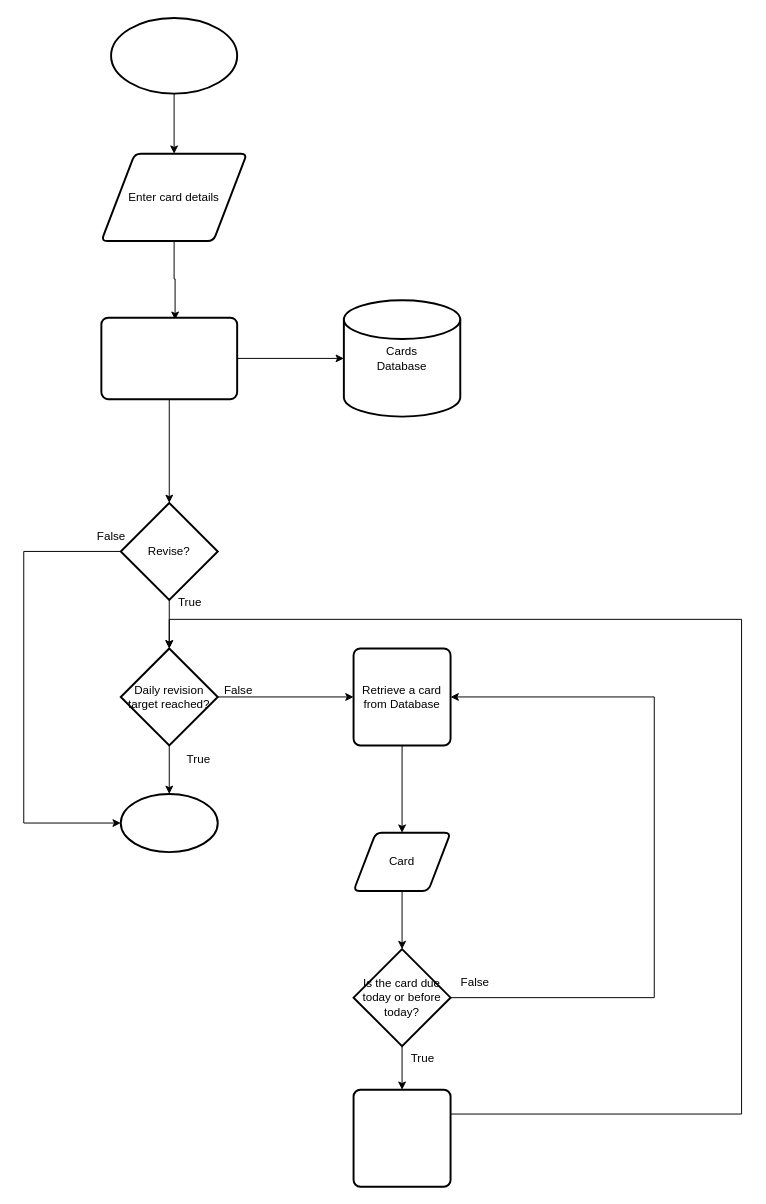
Image size: 766x1204. Some labels were removed from this diagram. The shapes that lost their labels are listed below. From the top down, each one's centre as x and y in pixels, then its label:
At (x=174, y=55): "Start".
At (x=169, y=358): "Create card in Database".
At (x=168, y=822): "Stop".
At (x=401, y=1137): "Ask card question to user".
